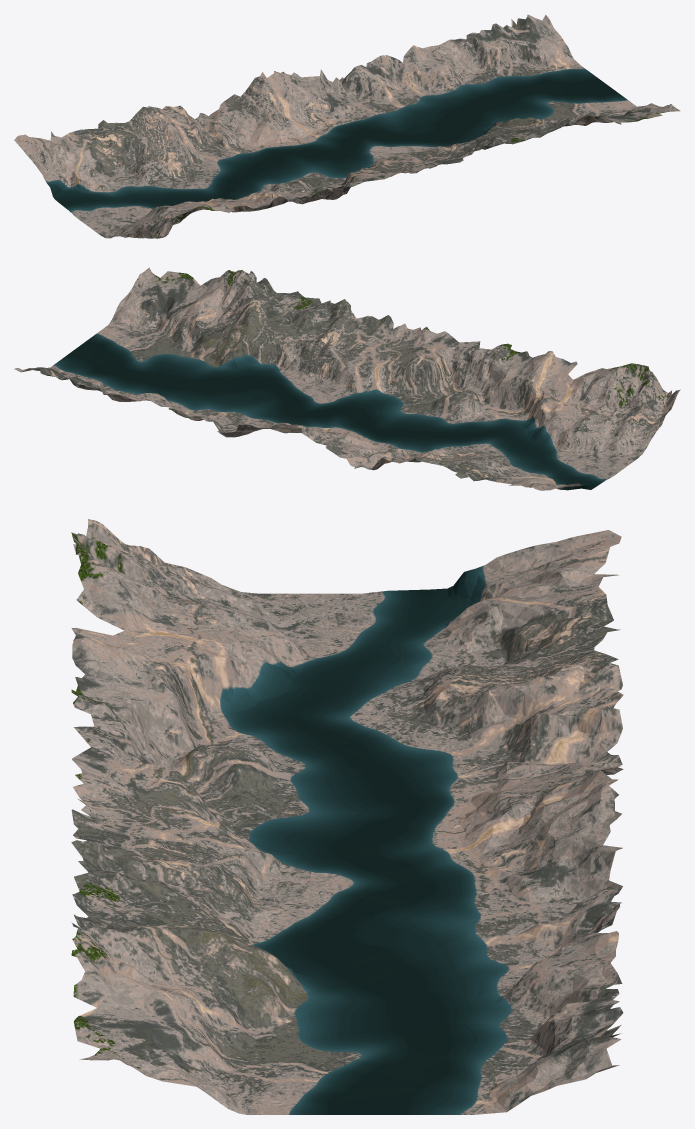
The model's file is MountFinally4 1.fbx.
3 views of the same model, one above another, from view 1: azimuth 30°, elevation 25°; view 2: azimuth 150°, elevation 25°; view 3: azimuth 270°, elevation 25° (orthographic). The views are drawn at different scales.
Parts seen in each view (by area): view 1: Mesher.002; view 2: Mesher.002; view 3: Mesher.002.
Boxes of the visible parts, <box> form: Mesher.002: <box>14,14,680,238</box>; Mesher.002: <box>14,267,680,490</box>; Mesher.002: <box>71,519,623,1114</box>.
Size of the model in its own units: 100 by 8.82 by 44.82.
